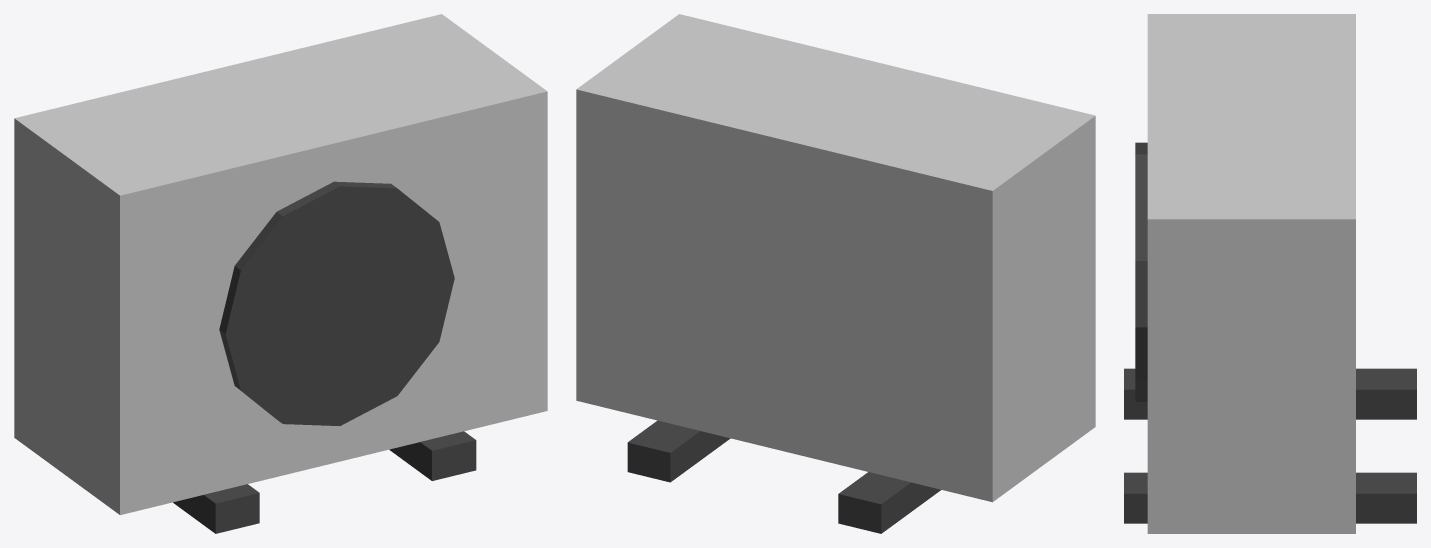
Rendered from AirConditioner.fbx.
3 views of the same model, side by side, from view 1: azimuth 30°, elevation 25°; view 2: azimuth 150°, elevation 25°; view 3: azimuth 270°, elevation 25° (orthographic). The views are drawn at different scales.
Visible parts, largest first — view 1: AirConditioner; view 2: AirConditioner; view 3: AirConditioner.
Boxes of the visible parts, box(x1,y1,x2,y2) form: AirConditioner: box(14, 14, 547, 533); AirConditioner: box(576, 14, 1095, 533); AirConditioner: box(1124, 14, 1416, 533).
Size of the model in its own units: 0.7 by 0.5474 by 0.4217.
